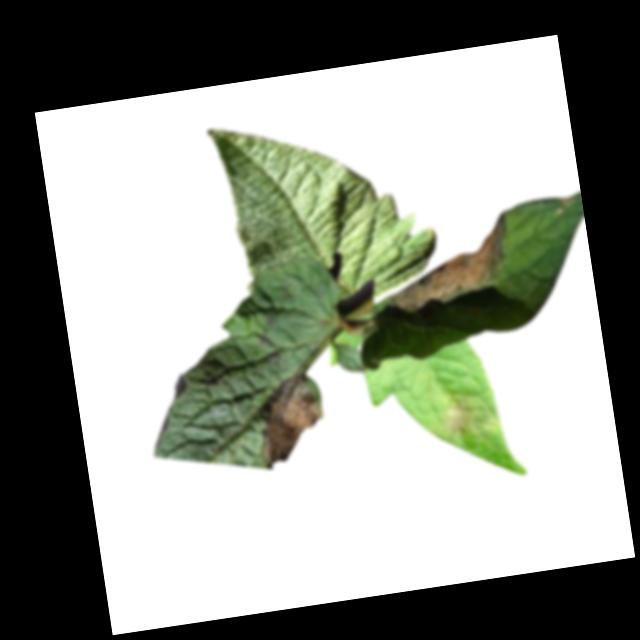Late_blight: (380, 212, 520, 313), (250, 369, 332, 470), (440, 391, 478, 440), (557, 193, 579, 209)
healthy: (205, 97, 443, 320)
